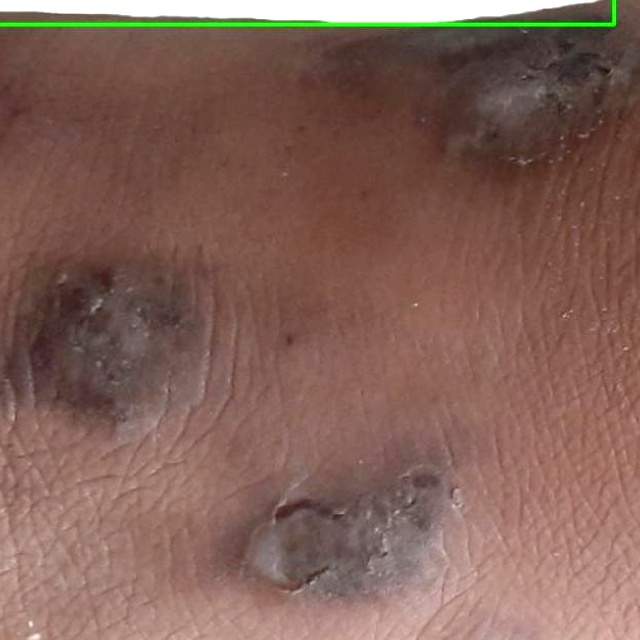Contact Dermatitis: (0, 0, 614, 24)
